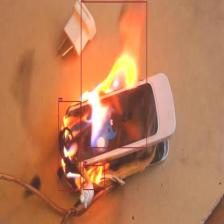fire: (80, 1, 146, 148), (58, 101, 81, 191), (83, 165, 105, 190)
